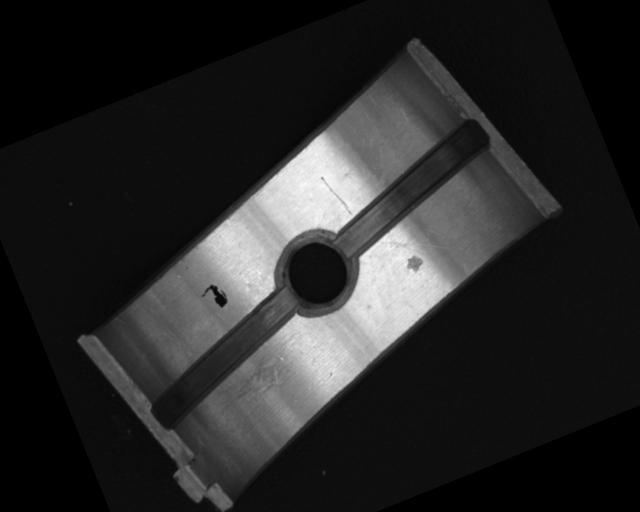blot: (196, 279, 231, 315)
bruise: (401, 251, 427, 277)
gap: (128, 285, 323, 432)
hole: (310, 116, 510, 263), (264, 222, 364, 321)
nick: (319, 169, 355, 223)
scratch: (202, 329, 311, 412)
